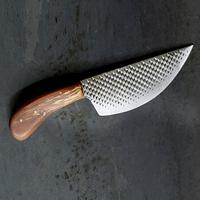knife: (9, 41, 194, 140)
